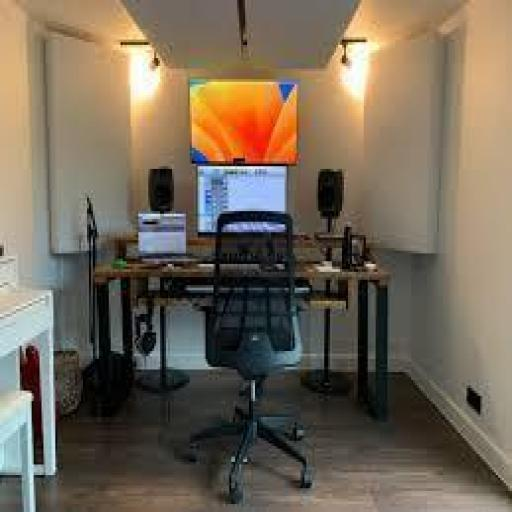chair: (204, 207, 320, 503)
